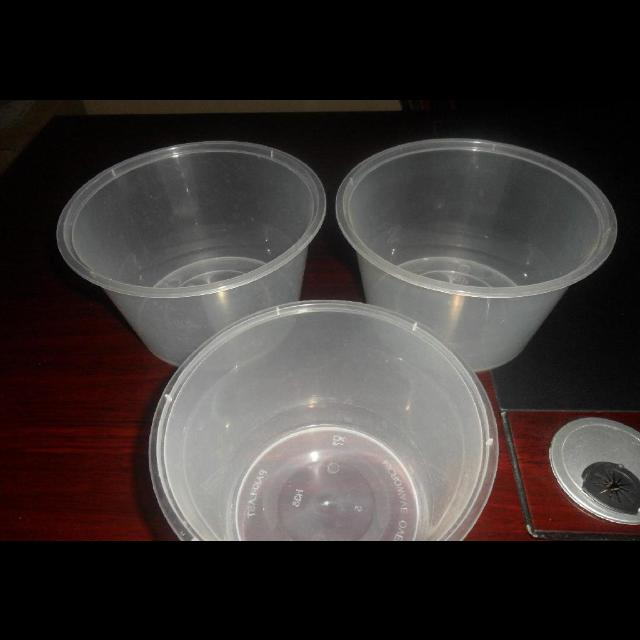plastic_box: (147, 296, 497, 538), (333, 136, 617, 370), (56, 140, 324, 364)
